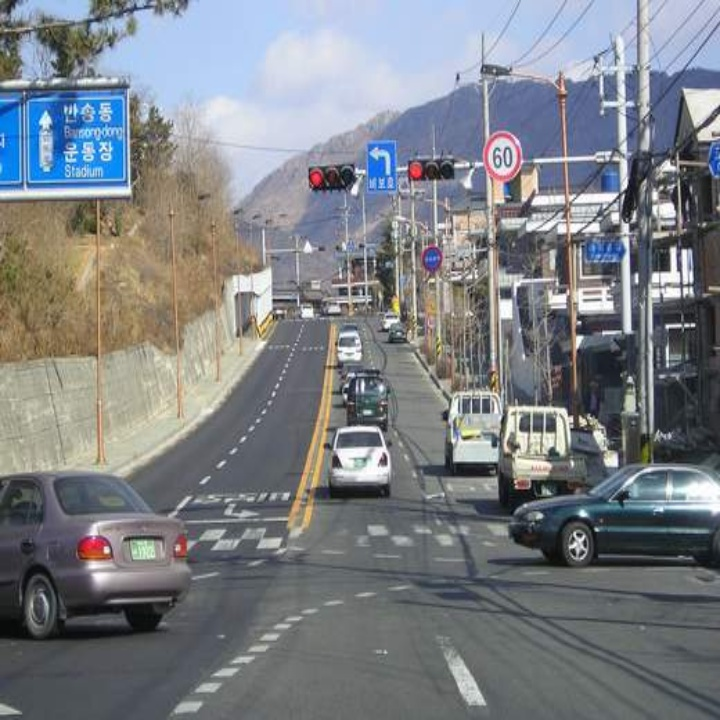left: (361, 142, 398, 179)
